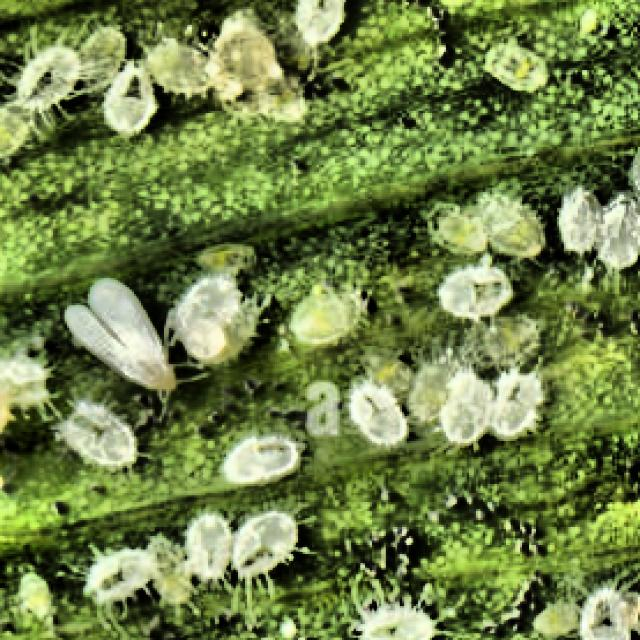nymph: (210, 11, 312, 120), (166, 271, 263, 364), (58, 400, 136, 464), (437, 256, 508, 319), (291, 285, 365, 344), (478, 194, 543, 258), (16, 45, 79, 111), (233, 511, 296, 577), (439, 369, 492, 446), (349, 380, 407, 446), (104, 61, 155, 133), (224, 434, 300, 482), (85, 550, 155, 602), (143, 38, 206, 95), (490, 371, 538, 436), (580, 586, 638, 638), (598, 194, 638, 269), (557, 185, 601, 253), (485, 41, 545, 90), (185, 513, 229, 579), (148, 538, 192, 604), (79, 27, 125, 90), (360, 604, 432, 638), (293, 0, 344, 47), (18, 574, 51, 622), (534, 602, 578, 633)
whitefly: (65, 278, 173, 391)
